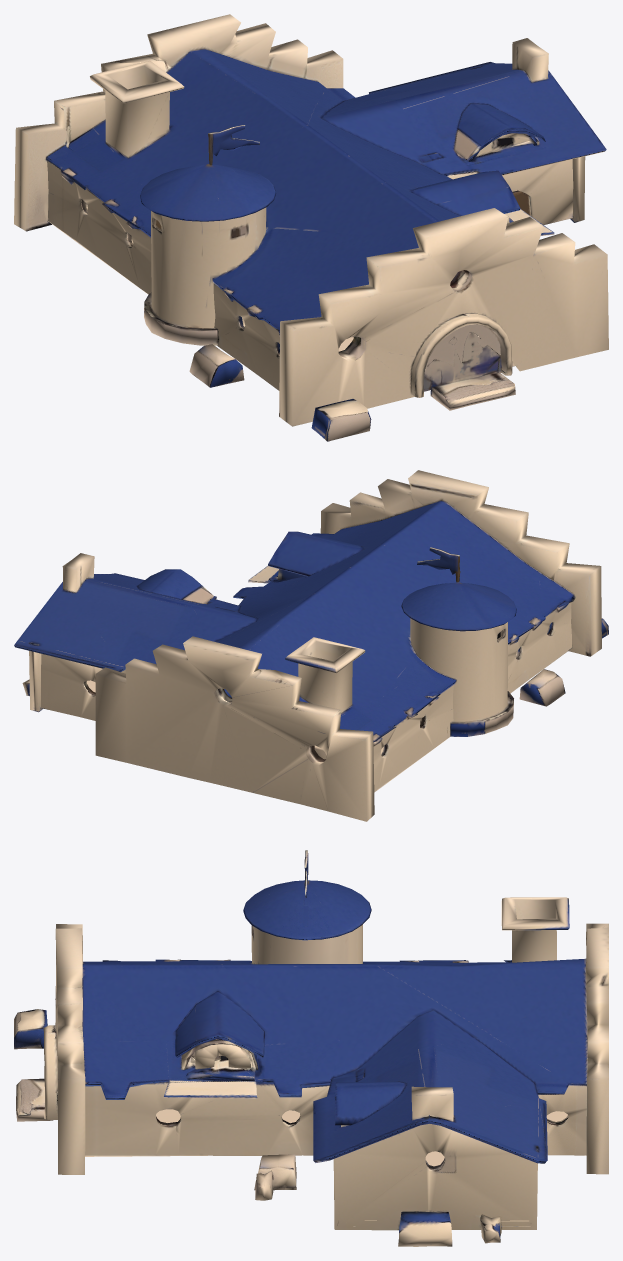
File: meshy-c4-d1.glb
3 renders of one model, top to bottom at view 1: azimuth 30°, elevation 25°; view 2: azimuth 150°, elevation 25°; view 3: azimuth 270°, elevation 25°, orthographic. The views are drawn at different scales.
Size of the model in its own units: 0.9294 by 0.3605 by 1.
Materials: 1 (1 with a texture image).
